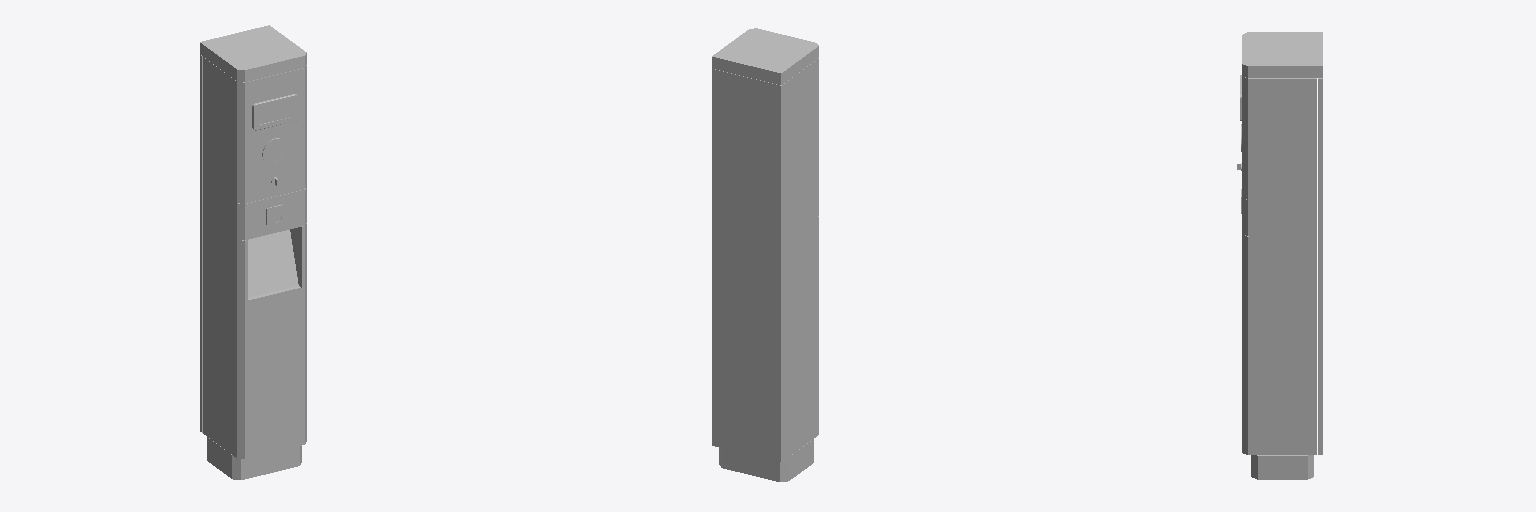
The model's file is 直流终端1.obj.
3 views of the same model, side by side, from view 1: azimuth 30°, elevation 25°; view 2: azimuth 150°, elevation 25°; view 3: azimuth 270°, elevation 25° (orthographic).
Parts seen in each view (by area): view 1: |公交充电桩1装配体|Root|公交充电桩1-1|gloss_blue, |公交充电桩1装配体|Root|公交充电桩1-1|aluminum_powdercoat, |公交充电桩1装配体|Root|公交充电桩1-1|metallic_cool_grey, |公交充电桩1装配体|Root|公交充电桩1-1|black_high_gloss_plastic, |公交充电桩1装配体|Root|公交充电桩1-1|black_high_gloss_plastic-2, |公交充电桩1装配体|Root|公交充电桩1-1|color, |公交充电桩1装配体|Root|公交充电桩1-1|white_led; view 2: |公交充电桩1装配体|Root|公交充电桩1-1|gloss_blue, |公交充电桩1装配体|Root|公交充电桩1-1|metallic_cool_grey; view 3: |公交充电桩1装配体|Root|公交充电桩1-1|gloss_blue, |公交充电桩1装配体|Root|公交充电桩1-1|metallic_cool_grey.
Boxes of the visible parts, x1,y1,x2,y2 form: |公交充电桩1装配体|Root|公交充电桩1-1|gloss_blue: [200, 25, 306, 458]; |公交充电桩1装配体|Root|公交充电桩1-1|aluminum_powdercoat: [237, 187, 306, 299]; |公交充电桩1装配体|Root|公交充电桩1-1|metallic_cool_grey: [207, 437, 301, 479]; |公交充电桩1装配体|Root|公交充电桩1-1|black_high_gloss_plastic: [252, 94, 297, 224]; |公交充电桩1装配体|Root|公交充电桩1-1|black_high_gloss_plastic-2: [262, 138, 287, 225]; |公交充电桩1装配体|Root|公交充电桩1-1|color: [201, 55, 306, 454]; |公交充电桩1装配体|Root|公交充电桩1-1|white_led: [259, 101, 292, 124]; |公交充电桩1装配体|Root|公交充电桩1-1|gloss_blue: [712, 28, 818, 462]; |公交充电桩1装配体|Root|公交充电桩1-1|metallic_cool_grey: [719, 439, 813, 481]; |公交充电桩1装配体|Root|公交充电桩1-1|gloss_blue: [1242, 32, 1322, 454]; |公交充电桩1装配体|Root|公交充电桩1-1|metallic_cool_grey: [1251, 455, 1313, 479].
Size of the model in its own units: 0.3 by 1.7 by 0.32.